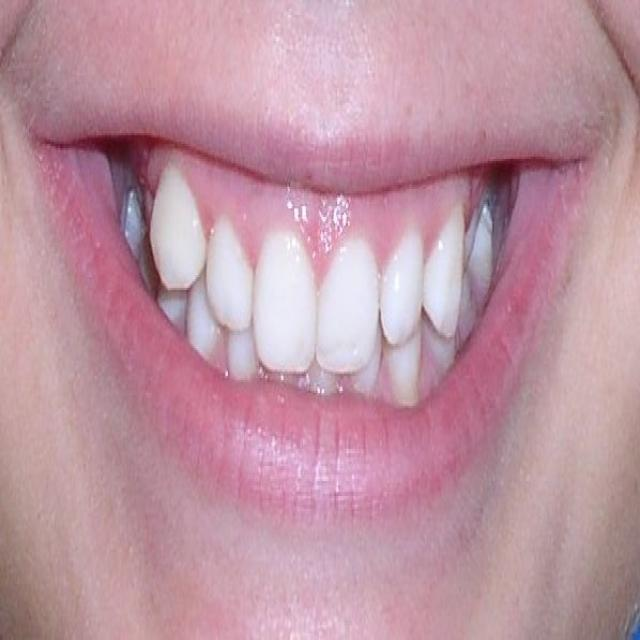tooth: (253, 228, 316, 369), (316, 236, 382, 367), (151, 165, 209, 290), (380, 228, 428, 335), (422, 213, 467, 324), (206, 215, 254, 318), (185, 277, 222, 354)
